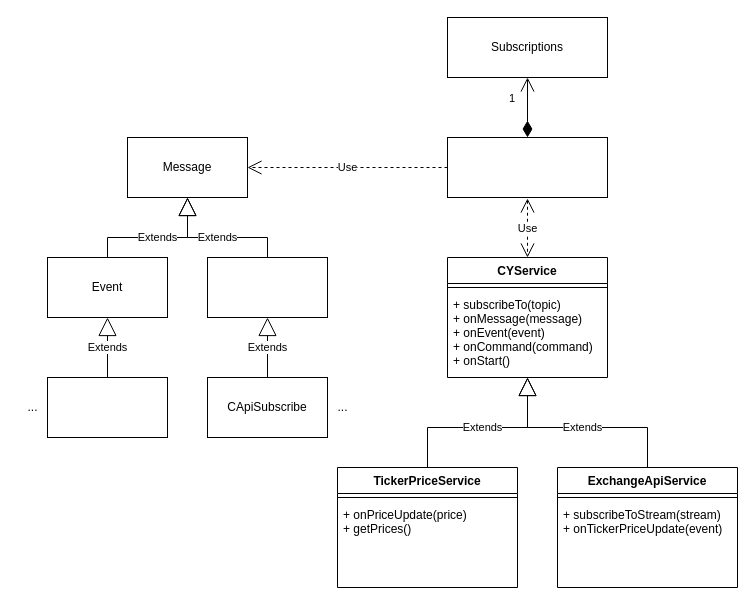
This 755x608 diagram has some shape labels left out. Each missing label, with the centre of its shape:
"Command" belongs at (267,287).
"EAppLifecycle" belongs at (107,407).
"MessageDispatcher" belongs at (527,167).
